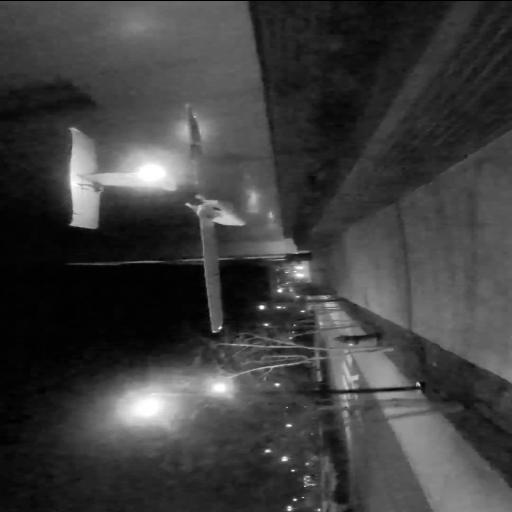uav: (62, 103, 244, 335)
